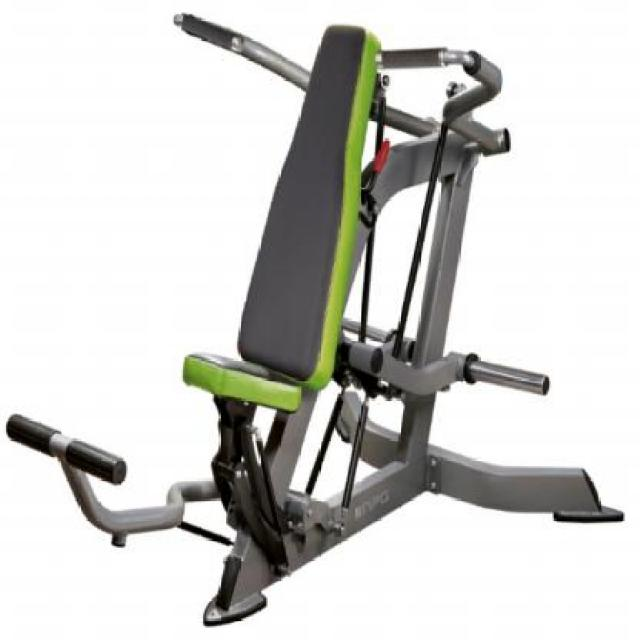shoulder press machine: (0, 3, 629, 640)
